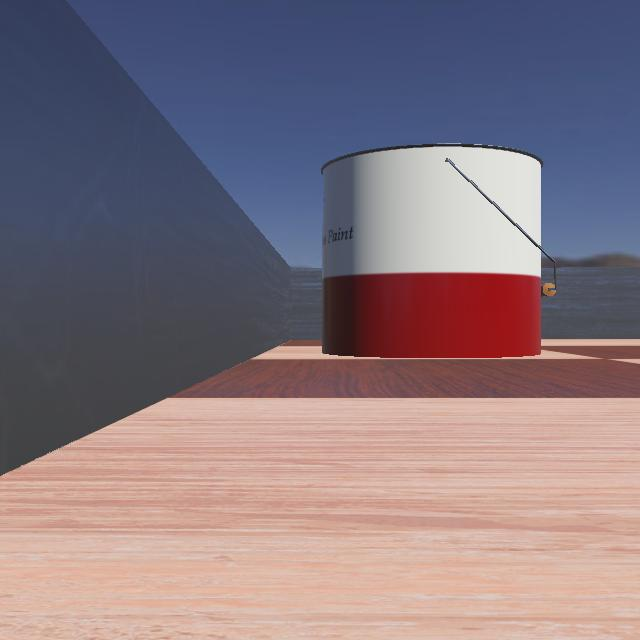paint-bucket: (319, 140, 589, 360)
